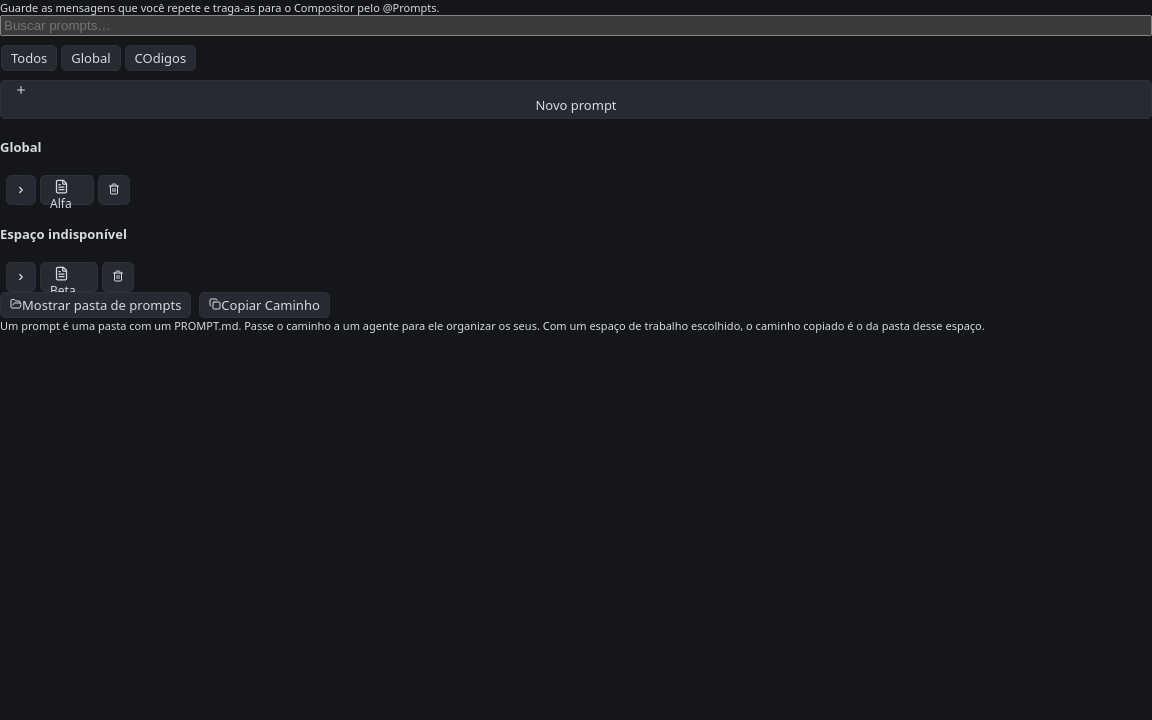
prompt de espaço que sumiu vai para um grupo próprio; novo prompt em Todos nasce no espaço atual
The width and height of the screenshot is (1152, 720).
Click the button "Novo prompt" at (576, 100), box 0,80 -> 1151,119
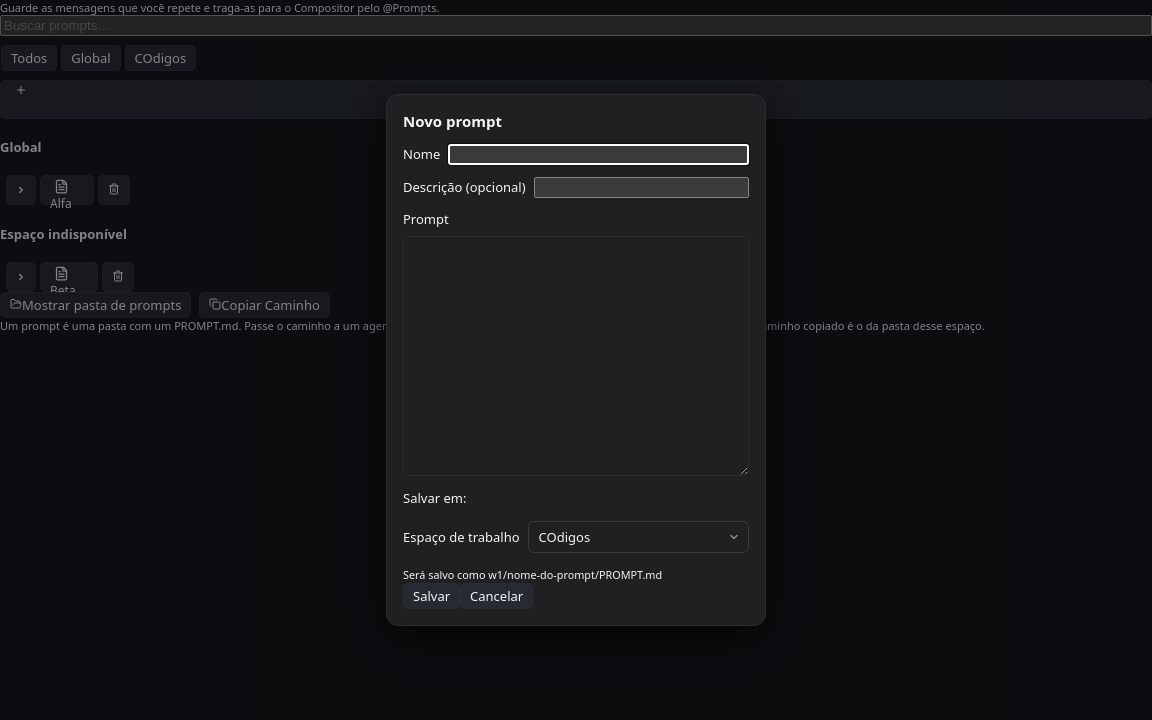
Expected: the dropdown labelled "Espaço de trabalho" shows "COdigos", 528,521 -> 749,553
